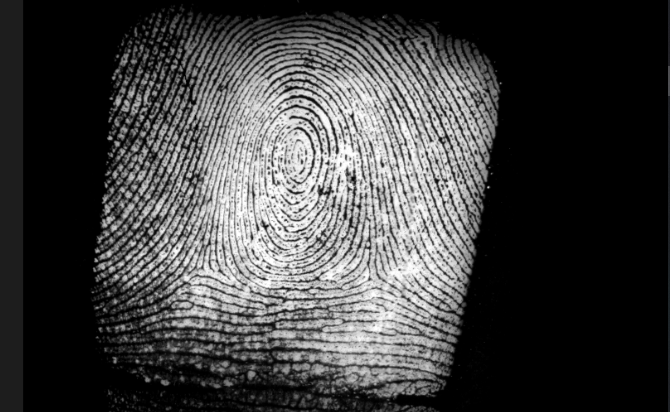deltas: (172, 236, 239, 293), (343, 251, 396, 301)
nucleo: (267, 123, 333, 203)
